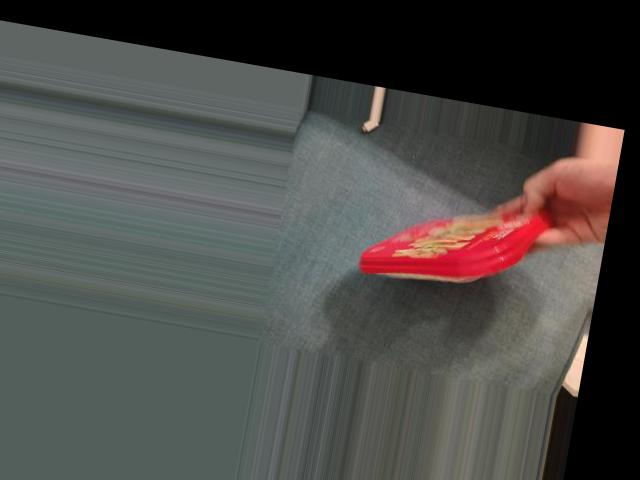cheese: (358, 179, 544, 305)
